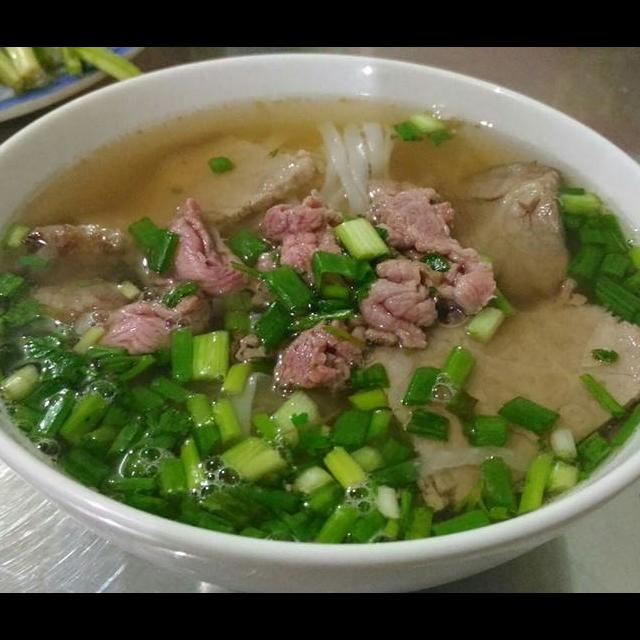banh pho: (308, 111, 403, 219)
pho bo: (0, 88, 640, 585)
thit bo: (370, 290, 640, 517), (64, 128, 327, 254), (348, 176, 501, 320), (426, 159, 568, 306), (156, 194, 269, 311), (76, 274, 219, 365), (253, 182, 353, 303), (267, 302, 377, 402), (354, 255, 454, 353)
